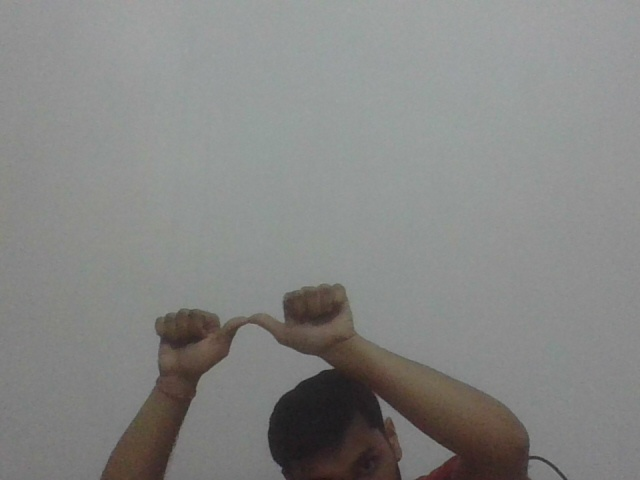A: (153, 282, 368, 368)
